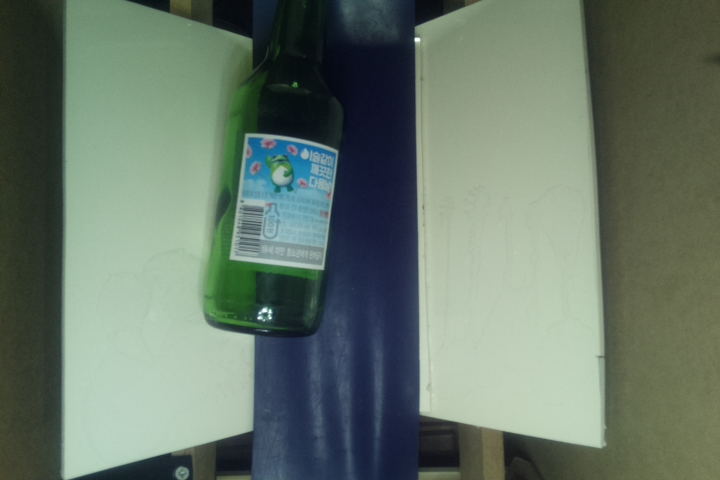soju: (201, 1, 346, 337)
